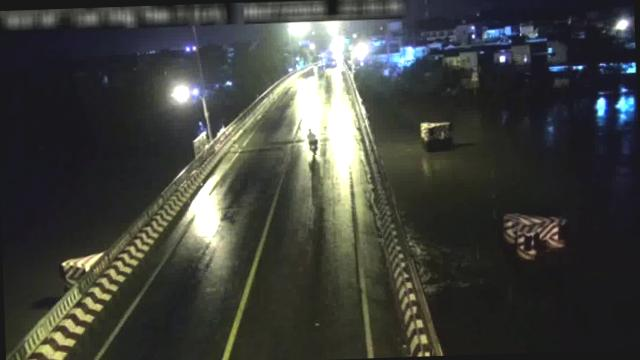Bike: (306, 126, 320, 156)
